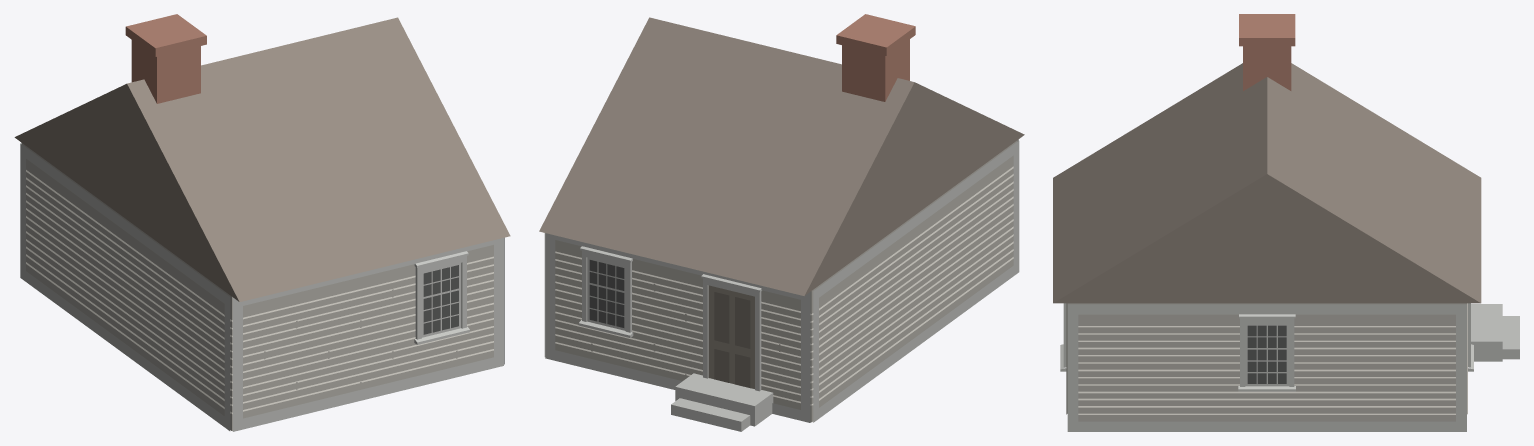
File: recon_1835_blk_washington_dearborn_d3_08__inferred_1835.glb
The picture shows the model from 3 angles, left to right: view 1: azimuth 30°, elevation 25°; view 2: azimuth 150°, elevation 25°; view 3: azimuth 270°, elevation 25°; orthographic projection. The views are drawn at different scales.
Visible parts, largest first — view 1: recon_1835_blk_washington_dearborn_d3_08__inferred_1835; view 2: recon_1835_blk_washington_dearborn_d3_08__inferred_1835; view 3: recon_1835_blk_washington_dearborn_d3_08__inferred_1835.
Part boxes in pixels (x1,y1,x2,y2): recon_1835_blk_washington_dearborn_d3_08__inferred_1835: (14,14,510,431); recon_1835_blk_washington_dearborn_d3_08__inferred_1835: (539,14,1024,431); recon_1835_blk_washington_dearborn_d3_08__inferred_1835: (1053,14,1519,431).
Bounding box in the file's own units: 5.32 × 5.71 × 8.11.
